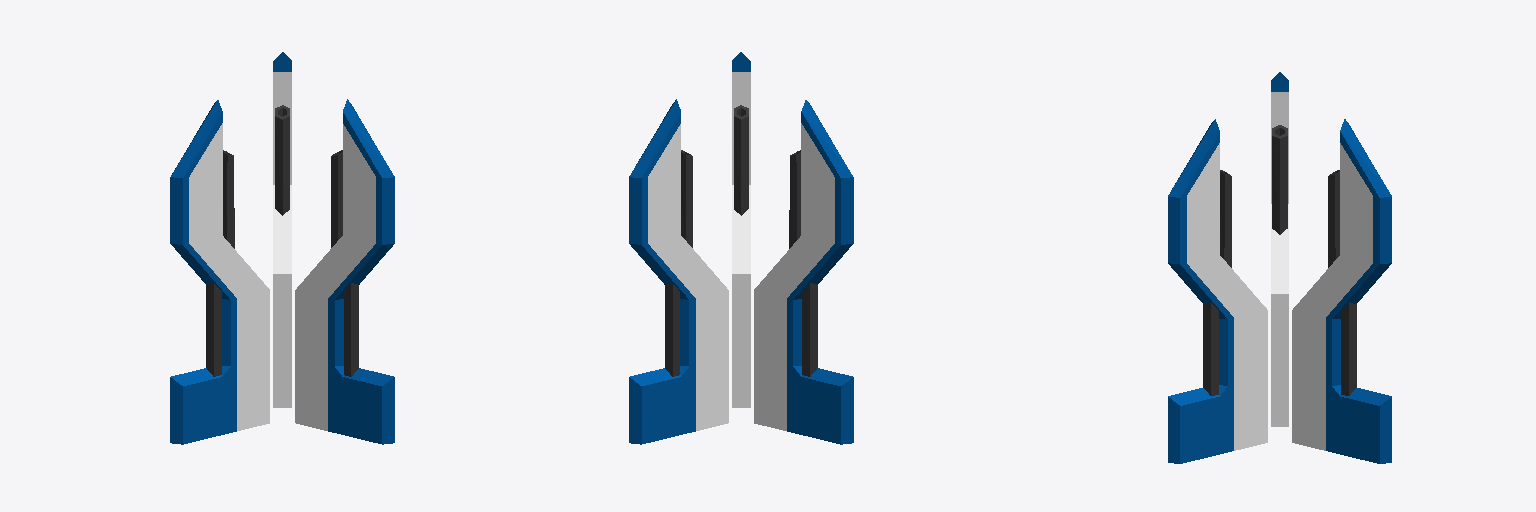
File: Pylon.obj
3 renders of one model, left to right at view 1: azimuth 30°, elevation 25°; view 2: azimuth 150°, elevation 25°; view 3: azimuth 270°, elevation 25°, orthographic.
Bounding box in the file's own units: 0.5304 × 0.9843 × 0.6023.